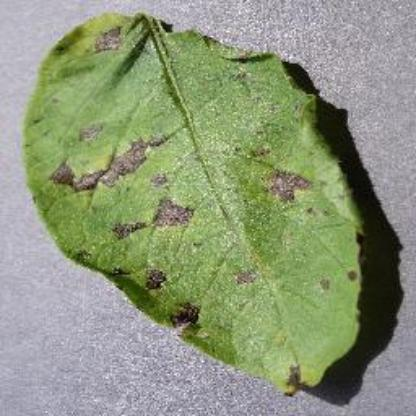Early-Blight: (24, 10, 376, 398)
